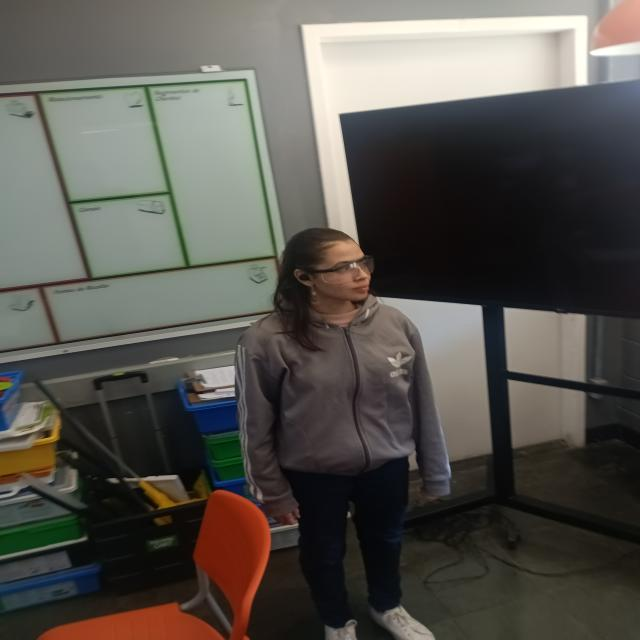oculos-epi: (309, 256, 374, 283)
